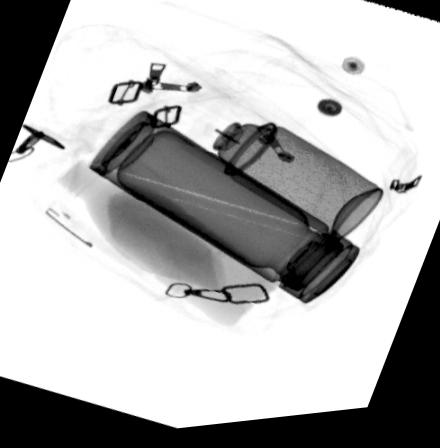Sprayer: (179, 97, 384, 251)
